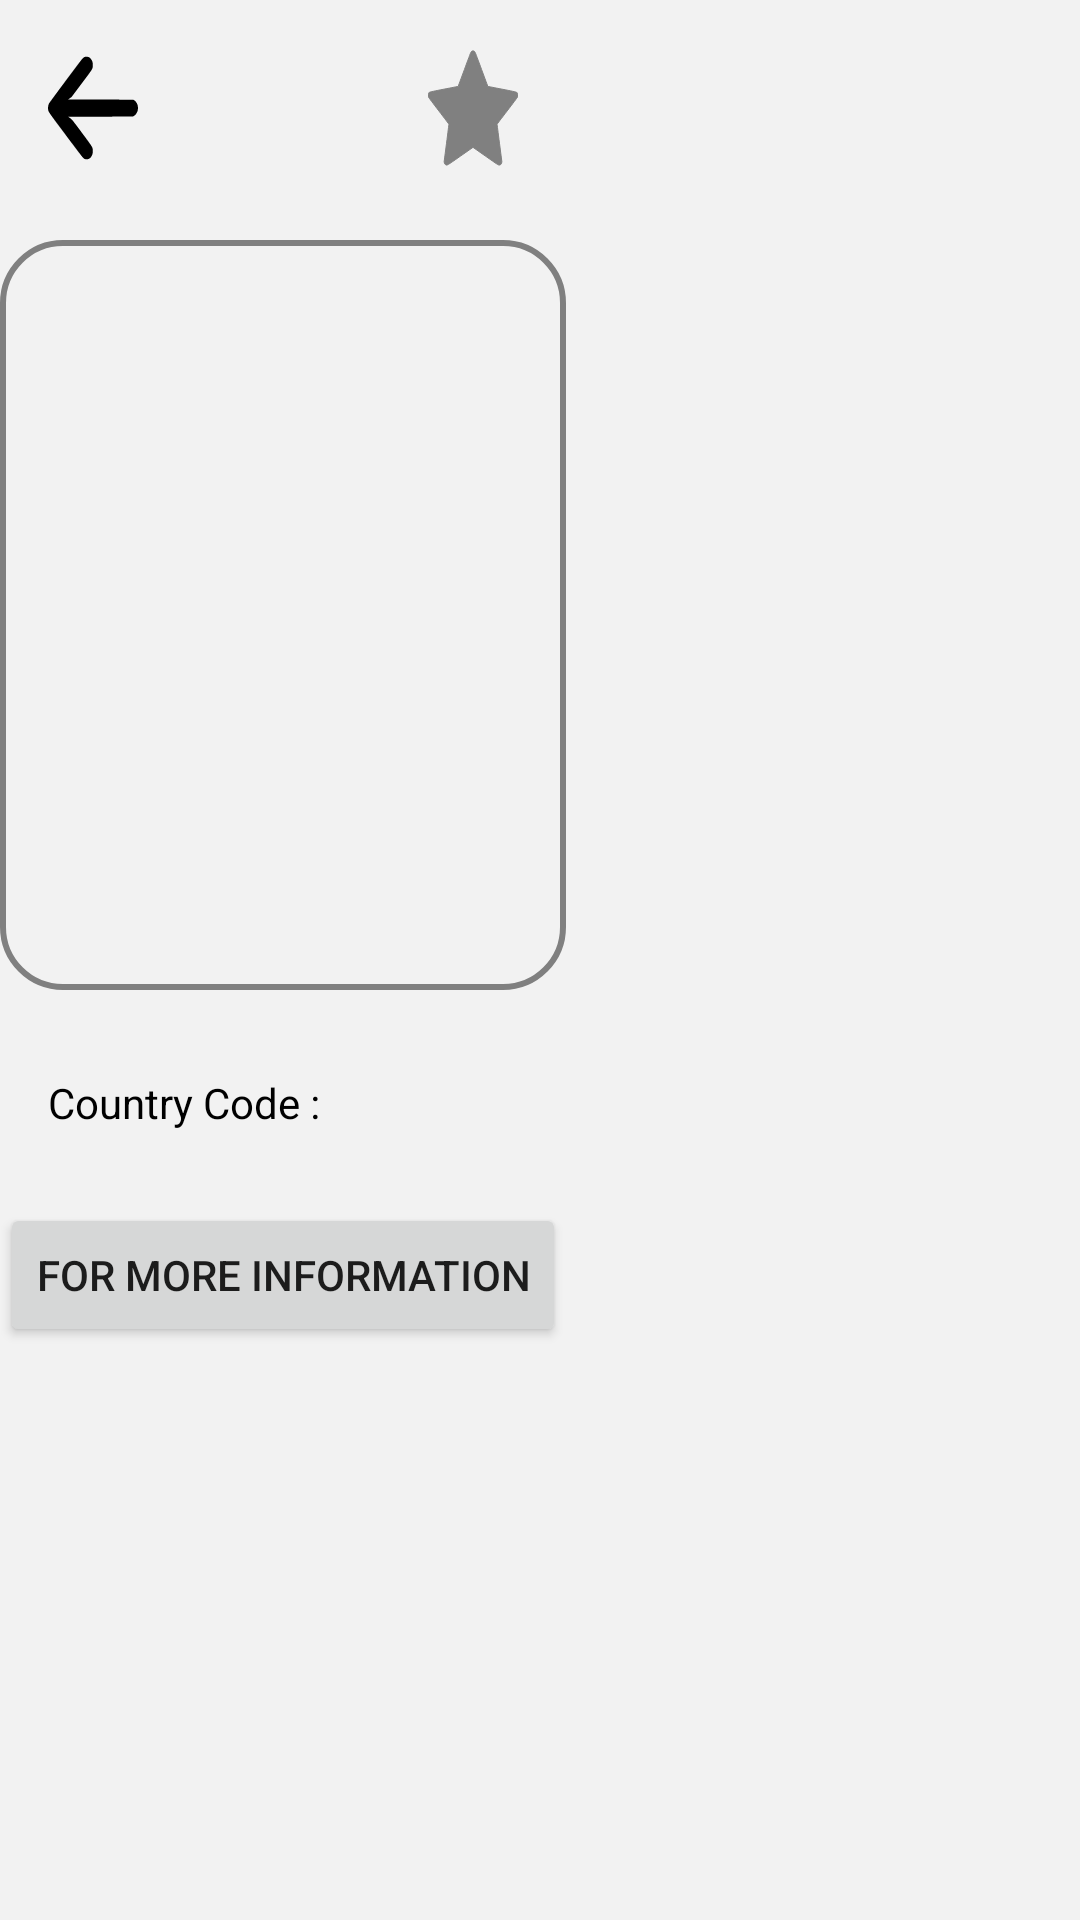

Screen size 1080×1920. Icon name, then its center in pixels as [x,y]:
arrow: [93,108]
star: [473,108]
